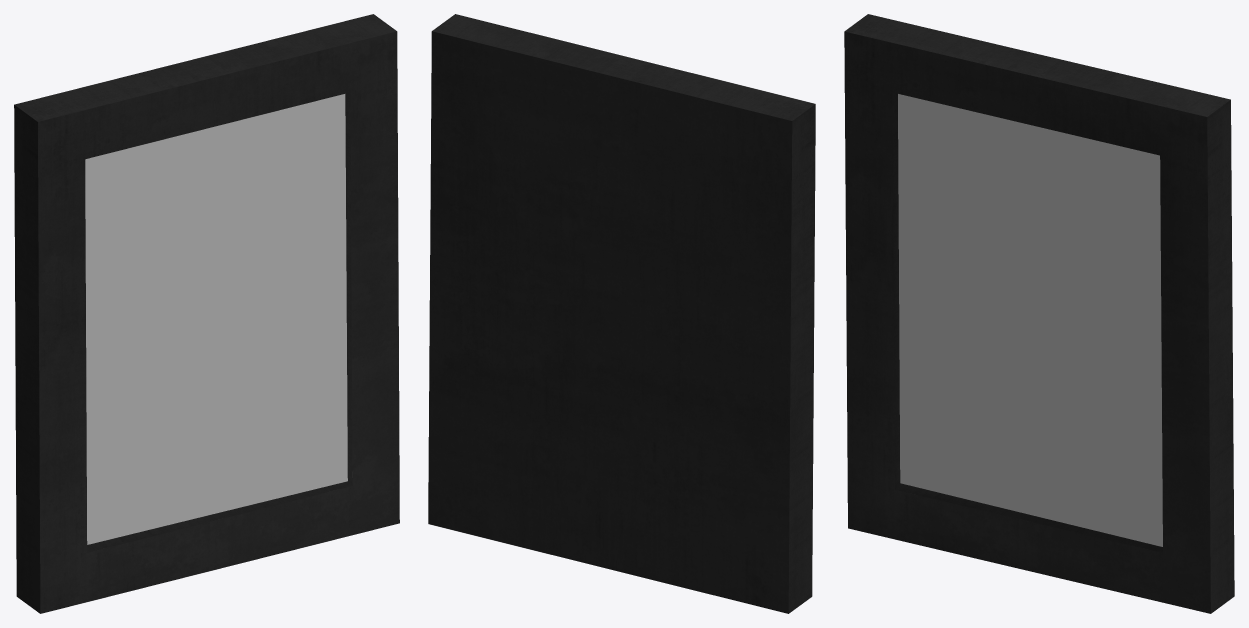
Rendered from Kaigamdl_4.fbx.
The picture shows the model from 3 angles, left to right: view 1: azimuth 30°, elevation 25°; view 2: azimuth 150°, elevation 25°; view 3: azimuth 330°, elevation 25°; orthographic projection.
Visible parts, largest first — view 1: Kaiga4; view 2: Kaiga4; view 3: Kaiga4.
Boxes of the visible parts, box(x1,y1,x2,y2) form: Kaiga4: box(14, 14, 399, 613); Kaiga4: box(428, 14, 815, 613); Kaiga4: box(844, 14, 1234, 613).
Size of the model in its own units: 62.12 by 81.04 by 7.31.
